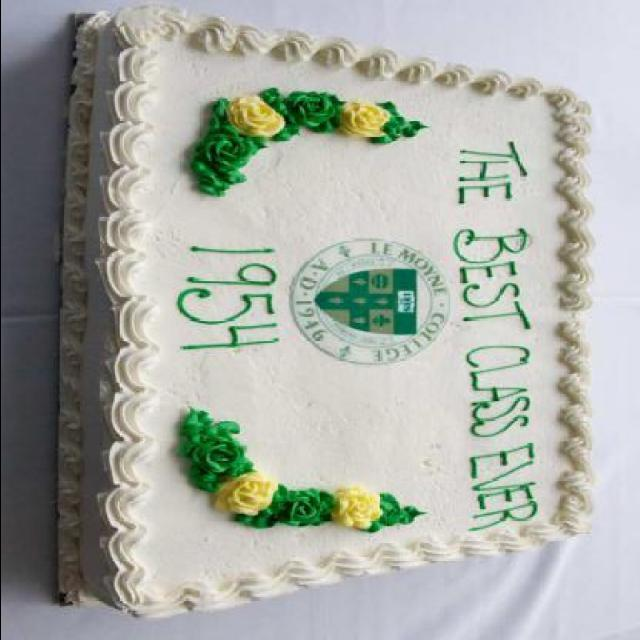Cake: (55, 6, 593, 617)
